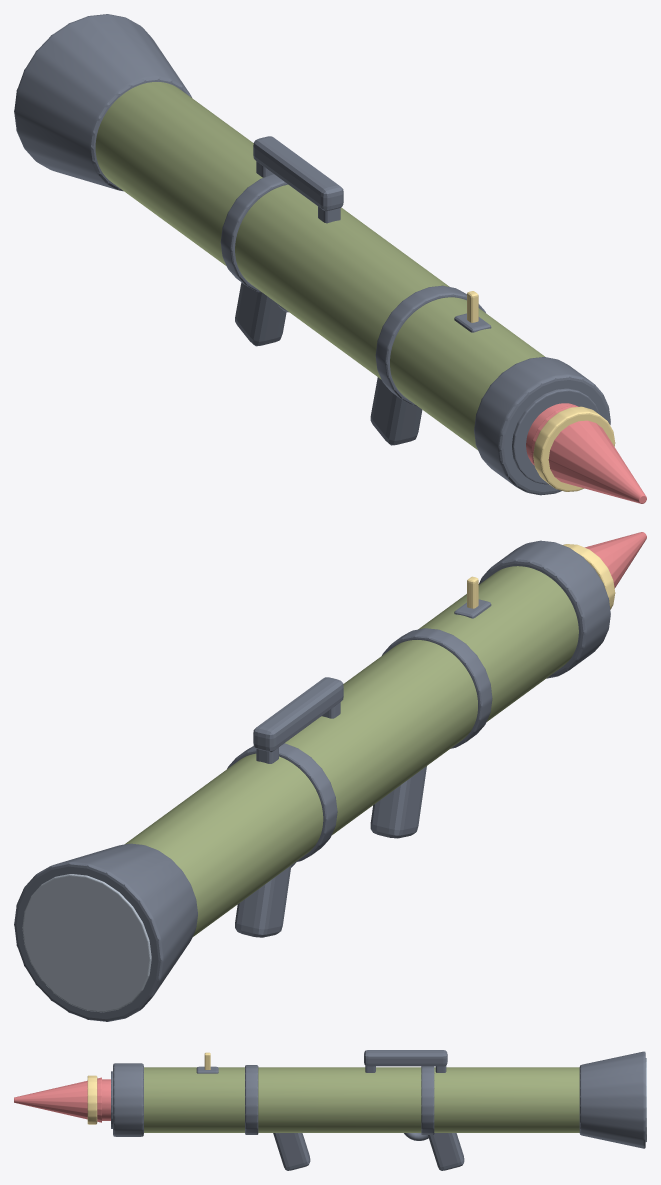
Rendered from bazooka.glb.
3 views of the same model, one above another, from view 1: azimuth 30°, elevation 25°; view 2: azimuth 150°, elevation 25°; view 3: azimuth 270°, elevation 25° (orthographic). The views are drawn at different scales.
Parts seen in each view (by area): view 1: WPN_Bazooka_Tube.001, WPN_Bazooka_Nozzle.001, WPN_Bazooka_FrontRim.001, WPN_Bazooka_RocketTip.001, WPN_Bazooka_Handle.001, WPN_Bazooka_Band2.001, WPN_Bazooka_GripRear.001, WPN_Bazooka_GripFront.001, WPN_Bazooka_RocketRing.001, WPN_Bazooka_Bore.001, WPN_Bazooka_Band1.001; view 2: WPN_Bazooka_Tube.001, WPN_Bazooka_Exhaust.001, WPN_Bazooka_Nozzle.001, WPN_Bazooka_FrontRim.001, WPN_Bazooka_Handle.001, WPN_Bazooka_GripRear.001, WPN_Bazooka_GripFront.001, WPN_Bazooka_Band2.001, WPN_Bazooka_Band1.001, WPN_Bazooka_RocketTip.001, WPN_Bazooka_RocketRing.001; view 3: WPN_Bazooka_Tube.001, WPN_Bazooka_Nozzle.001, WPN_Bazooka_FrontRim.001, WPN_Bazooka_RocketTip.001, WPN_Bazooka_Handle.001, WPN_Bazooka_GripFront.001, WPN_Bazooka_GripRear.001, WPN_Bazooka_Band2.001, WPN_Bazooka_Band1.001, WPN_Bazooka_RocketRing.001, WPN_Bazooka_RocketBody.001.
Boxes of the visible parts, x1=… form: WPN_Bazooka_Tube.001: x1=95, y1=82, x2=544, y2=449; WPN_Bazooka_Nozzle.001: x1=14, y1=14, x2=191, y2=191; WPN_Bazooka_FrontRim.001: x1=474, y1=357, x2=610, y2=495; WPN_Bazooka_RocketTip.001: x1=531, y1=406, x2=646, y2=503; WPN_Bazooka_Handle.001: x1=253, y1=136, x2=343, y2=211; WPN_Bazooka_Band2.001: x1=375, y1=285, x2=485, y2=406; WPN_Bazooka_GripRear.001: x1=235, y1=282, x2=286, y2=346; WPN_Bazooka_GripFront.001: x1=370, y1=377, x2=422, y2=445; WPN_Bazooka_RocketRing.001: x1=533, y1=406, x2=615, y2=491; WPN_Bazooka_Bore.001: x1=512, y1=388, x2=599, y2=484; WPN_Bazooka_Band1.001: x1=220, y1=174, x2=287, y2=292; WPN_Bazooka_Tube.001: x1=125, y1=566, x2=578, y2=936; WPN_Bazooka_Exhaust.001: x1=22, y1=874, x2=151, y2=1012; WPN_Bazooka_Nozzle.001: x1=14, y1=843, x2=197, y2=1021; WPN_Bazooka_FrontRim.001: x1=478, y1=540, x2=610, y2=678; WPN_Bazooka_Handle.001: x1=253, y1=677, x2=343, y2=752; WPN_Bazooka_GripRear.001: x1=235, y1=865, x2=291, y2=937; WPN_Bazooka_GripFront.001: x1=370, y1=766, x2=426, y2=838; WPN_Bazooka_Band2.001: x1=382, y1=628, x2=492, y2=748; WPN_Bazooka_Band1.001: x1=227, y1=743, x2=337, y2=862; WPN_Bazooka_RocketTip.001: x1=585, y1=532, x2=646, y2=588; WPN_Bazooka_RocketRing.001: x1=563, y1=544, x2=615, y2=609; WPN_Bazooka_Tube.001: x1=144, y1=1067, x2=579, y2=1132; WPN_Bazooka_Nozzle.001: x1=579, y1=1051, x2=645, y2=1148; WPN_Bazooka_FrontRim.001: x1=113, y1=1063, x2=143, y2=1136; WPN_Bazooka_RocketTip.001: x1=14, y1=1077, x2=101, y2=1122; WPN_Bazooka_Handle.001: x1=364, y1=1050, x2=447, y2=1066; WPN_Bazooka_GripFront.001: x1=273, y1=1133, x2=310, y2=1170; WPN_Bazooka_GripRear.001: x1=428, y1=1133, x2=464, y2=1170; WPN_Bazooka_Band2.001: x1=245, y1=1065, x2=258, y2=1134; WPN_Bazooka_Band1.001: x1=421, y1=1066, x2=434, y2=1134; WPN_Bazooka_RocketRing.001: x1=87, y1=1075, x2=97, y2=1124; WPN_Bazooka_RocketBody.001: x1=102, y1=1079, x2=110, y2=1120.
Size of the model in its own units: 0.2213 by 0.292 by 1.44.
